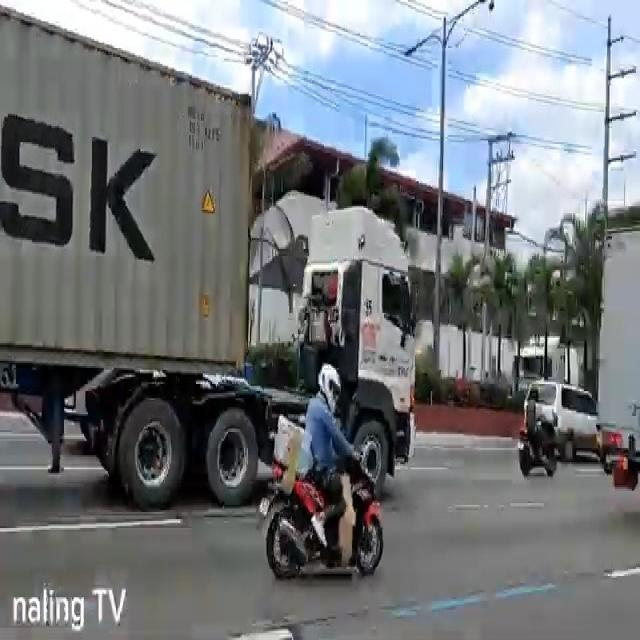car: (527, 379, 598, 462)
motorcycle: (256, 363, 385, 584), (517, 385, 557, 478)
truck: (0, 2, 414, 494), (592, 225, 640, 492)
